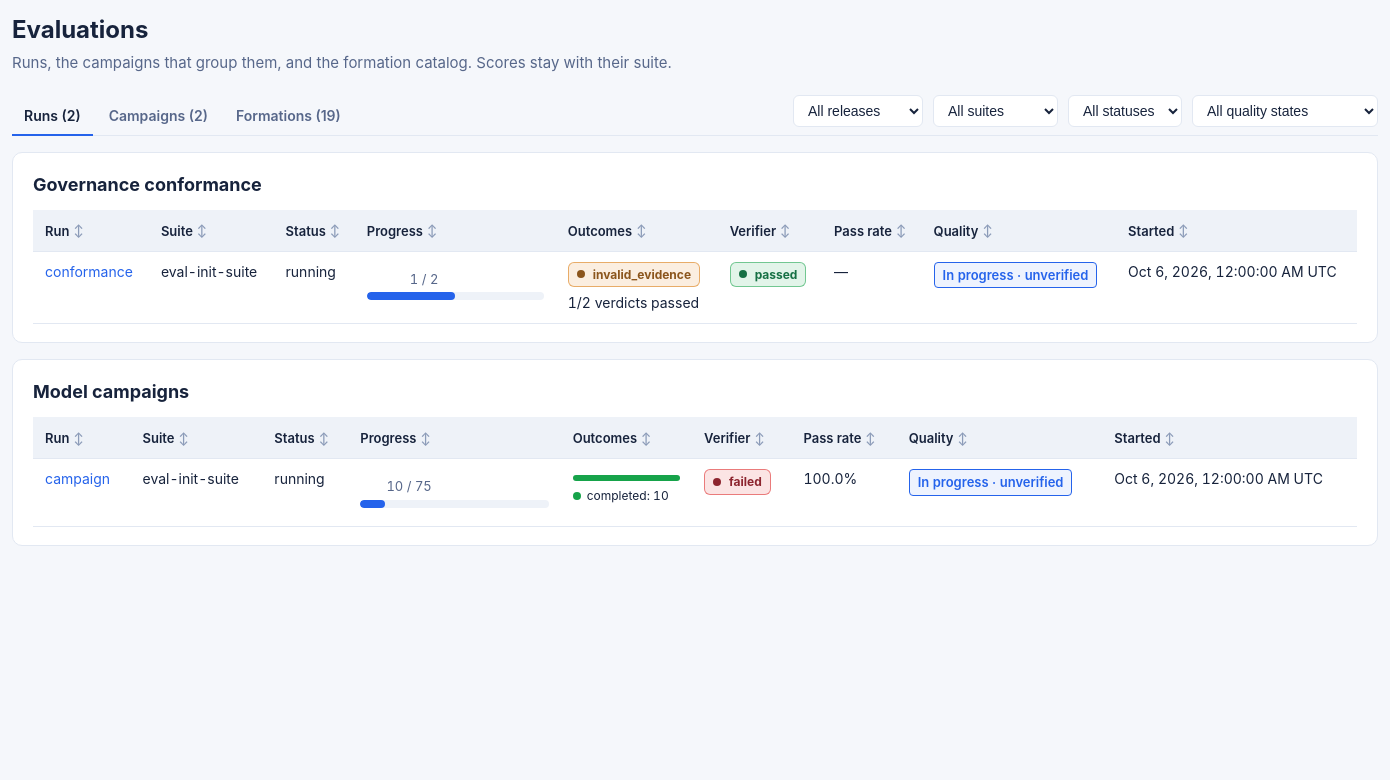
Scenario: EvaluationsView › filters runs and separates conformance from campaigns with verifier tones
Expected: the tab "Runs (2)" is shown, [12, 96, 93, 136]
Expected: the text "1/2 verdicts passed" is shown, [568, 293, 706, 313]
Select "Stopped" in the dropdown named "Filter by status": x=1125, y=110 [1068, 94, 1182, 126]
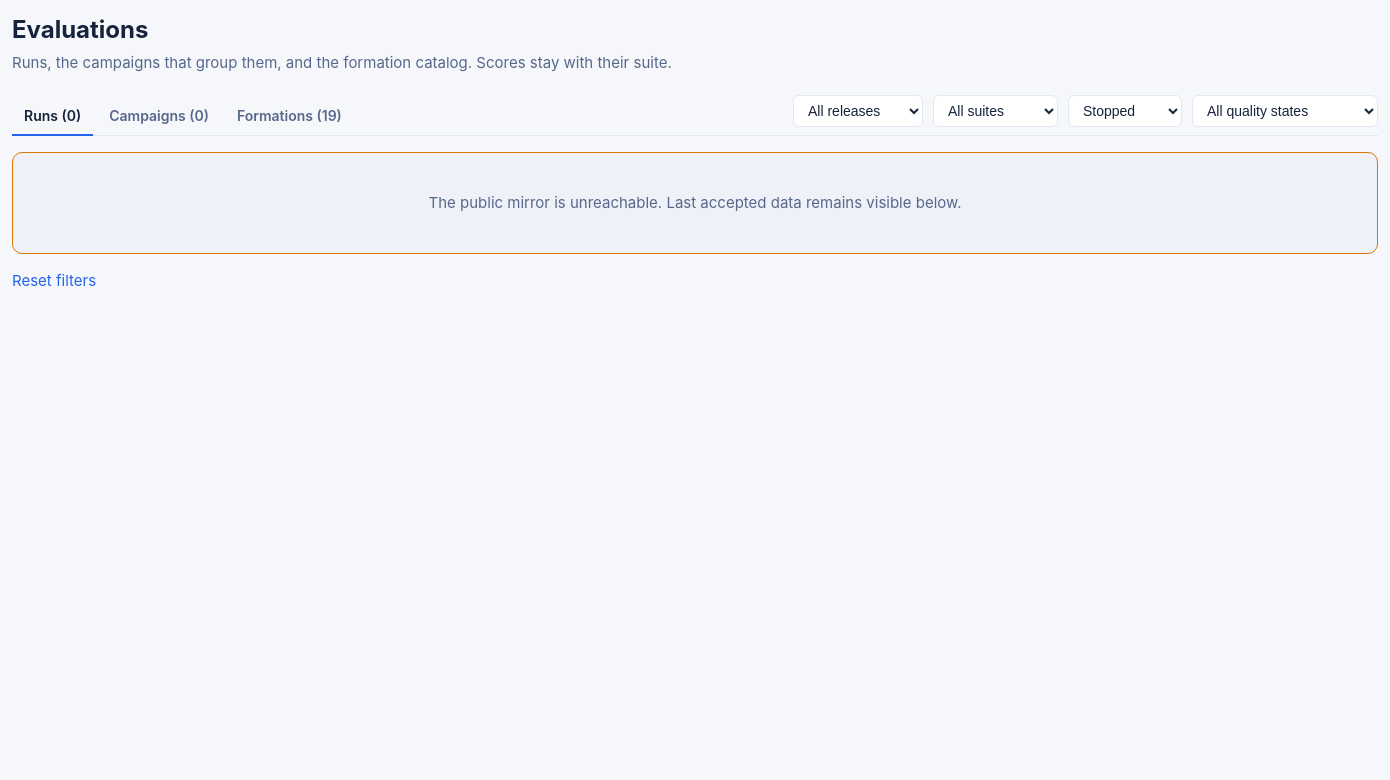
Expected: the tab "Runs (0)" is shown, [12, 96, 93, 136]
Expected: the heading "Model campaigns" is gone
Click the link "Reset filters": x=54, y=280 [12, 271, 96, 290]
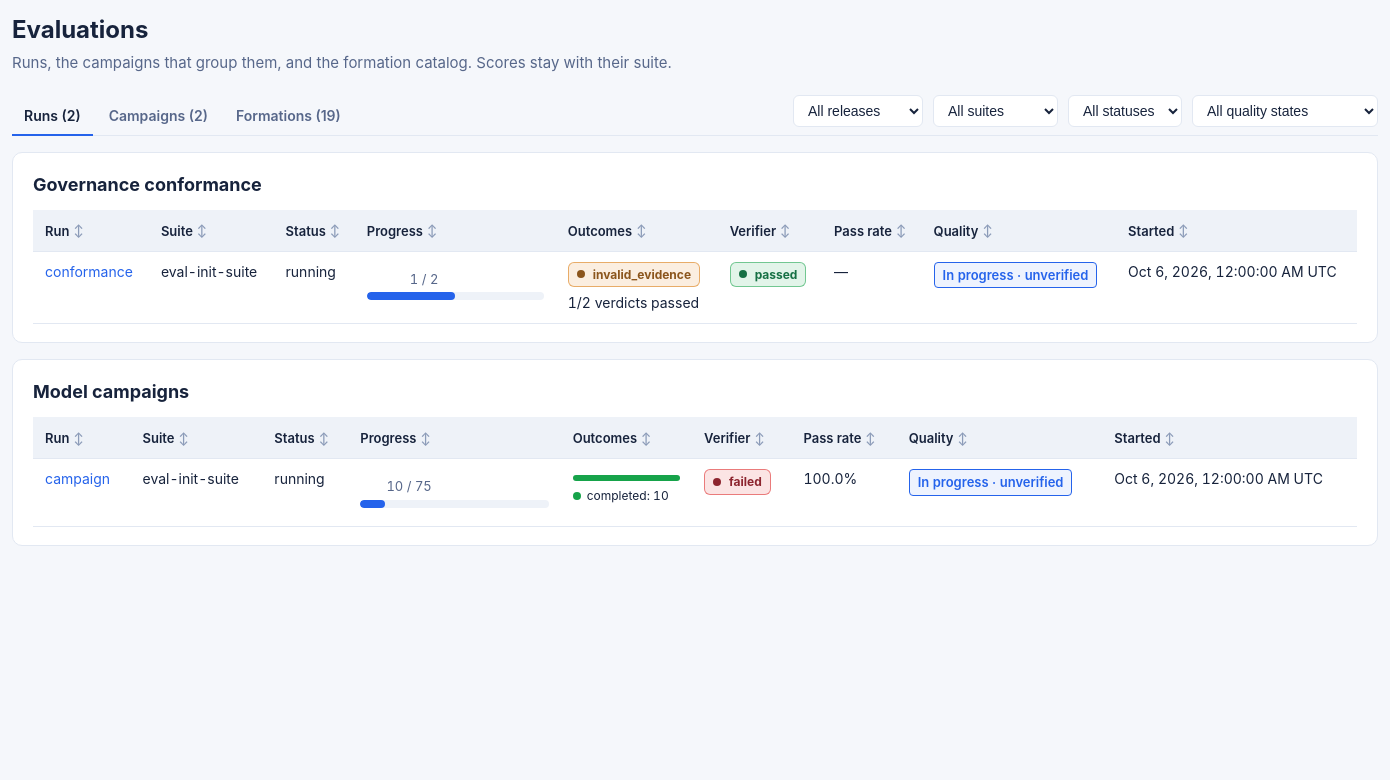
Expected: the tab "Runs (2)" is shown, [12, 96, 93, 136]
